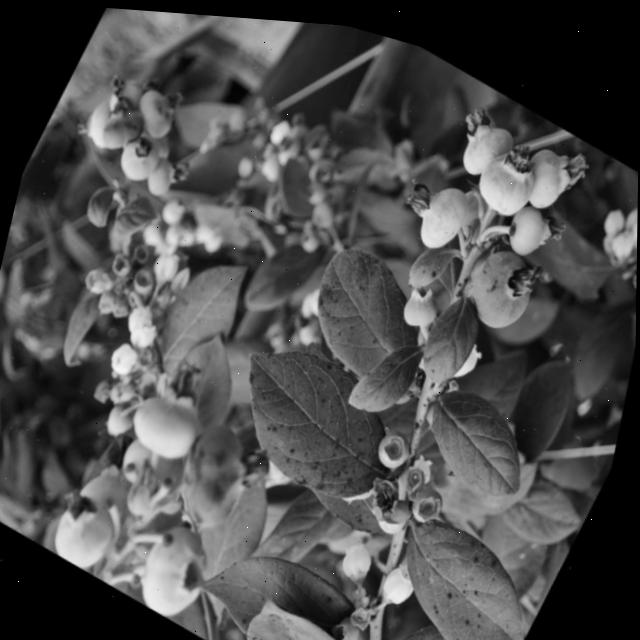RipeBlueBerry: (155, 398, 275, 544), (94, 90, 155, 163)
Semi-RipeBlueBerry: (453, 223, 556, 342)
UnripeBlueBerry: (123, 504, 232, 632), (118, 359, 222, 473), (466, 122, 554, 222)
